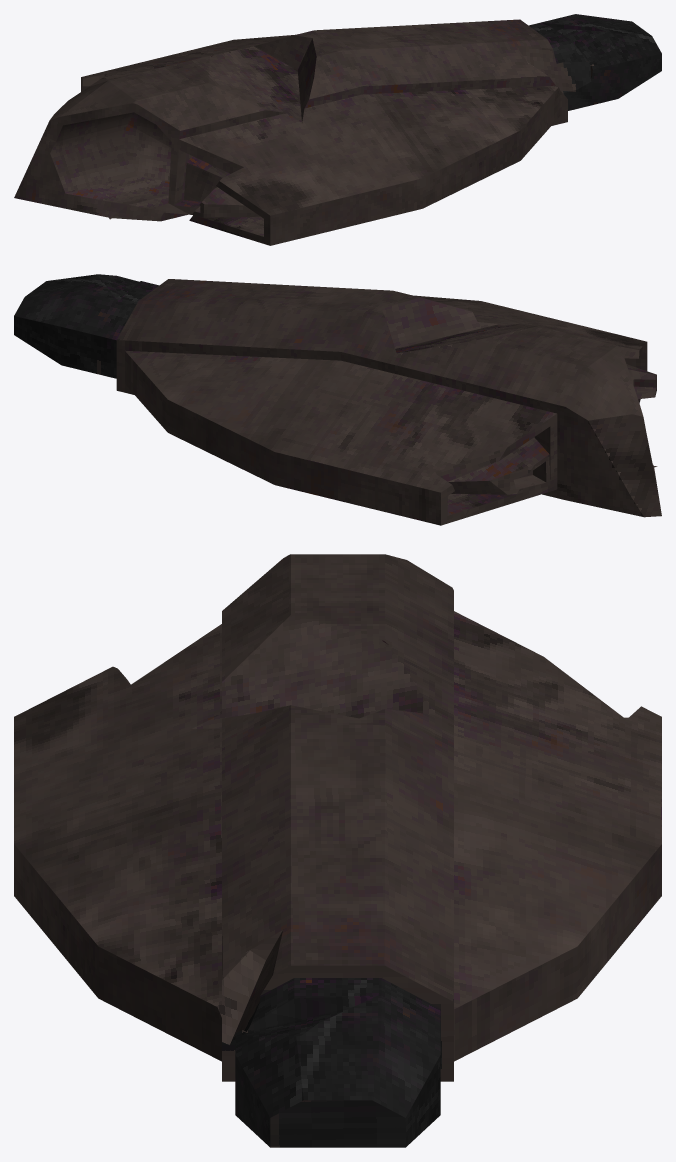
Rendered from debry_03.glb.
3 renders of one model, top to bottom at view 1: azimuth 30°, elevation 25°; view 2: azimuth 150°, elevation 25°; view 3: azimuth 270°, elevation 25°, orthographic. The views are drawn at different scales.
Visible parts, largest first — view 1: debry_03; view 2: debry_03; view 3: debry_03.
Boxes of the visible parts, left/top/right/bottom form: debry_03: left=14, top=14, right=661, bottom=245; debry_03: left=14, top=274, right=661, bottom=525; debry_03: left=14, top=554, right=661, bottom=1147.
Size of the model in its own units: 10.24 by 1.74 by 5.58.
1 material, 1 textured.
